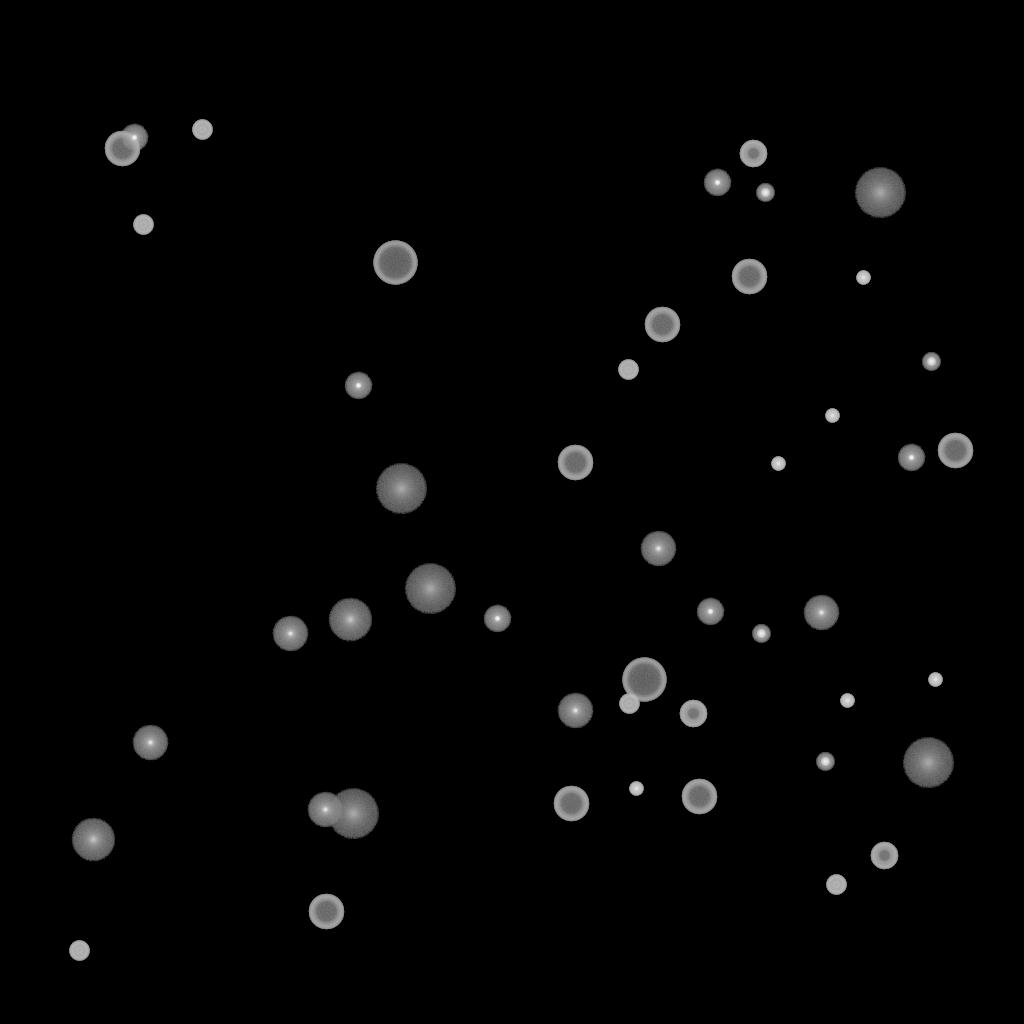depth:-10: (897, 444, 925, 472), (344, 372, 372, 400), (696, 598, 724, 626), (483, 605, 511, 633), (703, 169, 731, 197), (120, 124, 148, 152)
depth:-20: (756, 184, 774, 202), (922, 353, 940, 371), (752, 625, 770, 643), (816, 753, 834, 771)
depth:-30: (629, 782, 643, 796), (825, 409, 839, 423), (771, 457, 785, 471), (928, 673, 942, 687), (840, 694, 854, 708), (856, 271, 870, 285)
depth:-40: (192, 120, 212, 140), (133, 215, 153, 235), (618, 360, 638, 380), (826, 875, 846, 895), (69, 941, 89, 961), (619, 694, 639, 714)
depth:-50: (739, 140, 767, 168), (679, 700, 707, 728), (870, 842, 898, 870)
depth:-60: (731, 259, 767, 295), (937, 433, 973, 469), (553, 786, 589, 822), (308, 894, 344, 930), (104, 131, 140, 167), (681, 779, 717, 815), (557, 445, 593, 481), (644, 307, 680, 343)
depth:-70: (373, 241, 417, 285), (622, 658, 666, 702)
depth:0: (803, 595, 839, 631), (272, 616, 308, 652), (307, 792, 343, 828), (132, 725, 168, 761), (557, 693, 593, 729), (640, 531, 676, 567)
depth:10: (71, 818, 115, 862), (328, 598, 372, 642)
depth:20: (404, 564, 456, 614), (902, 738, 954, 788), (375, 464, 427, 514), (854, 168, 906, 218), (327, 789, 379, 839)
